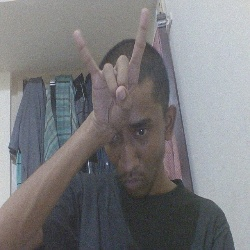hand: (64, 11, 154, 127)
